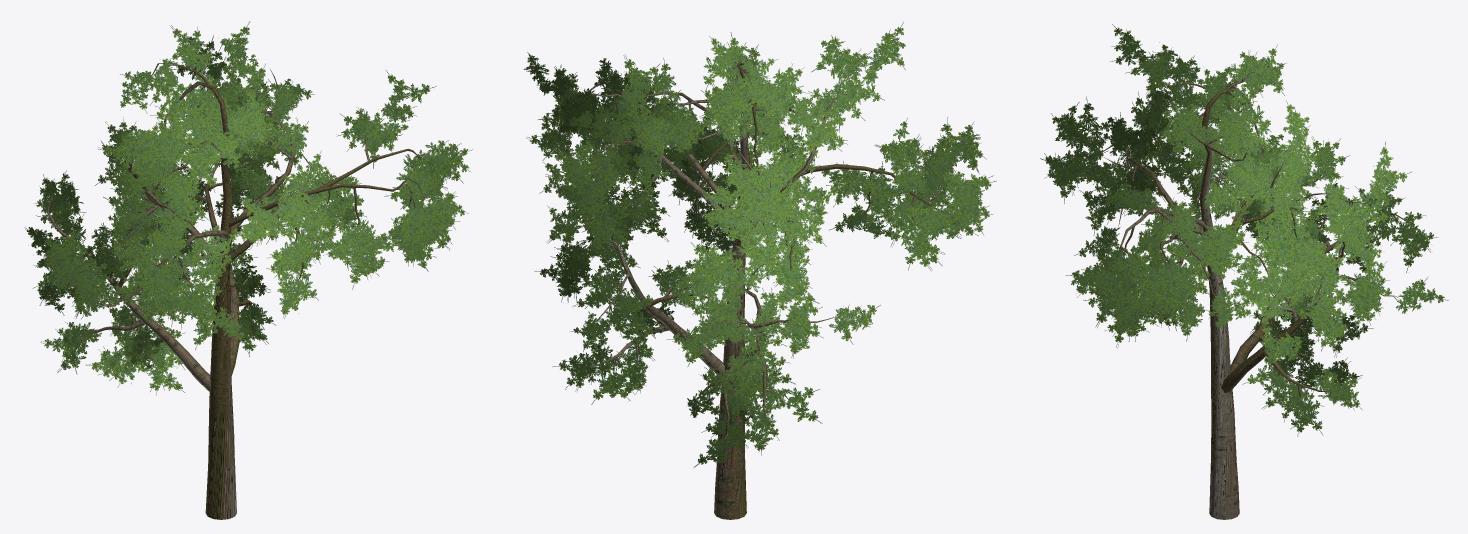
Rendered from tree_ash_a_lod0.glb.
3 renders of one model, left to right at view 1: azimuth 30°, elevation 25°; view 2: azimuth 150°, elevation 25°; view 3: azimuth 270°, elevation 25°, orthographic. The views are drawn at different scales.
Visible parts, largest first — view 1: ash_a; view 2: ash_a; view 3: ash_a.
Part boxes in pixels (bbox=[...]): ash_a: bbox=[24, 21, 472, 519]; ash_a: bbox=[523, 22, 996, 519]; ash_a: bbox=[1040, 24, 1448, 519].
Size of the model in its own units: 10.53 by 11 by 9.05.
Materials: 2 (2 with a texture image).
